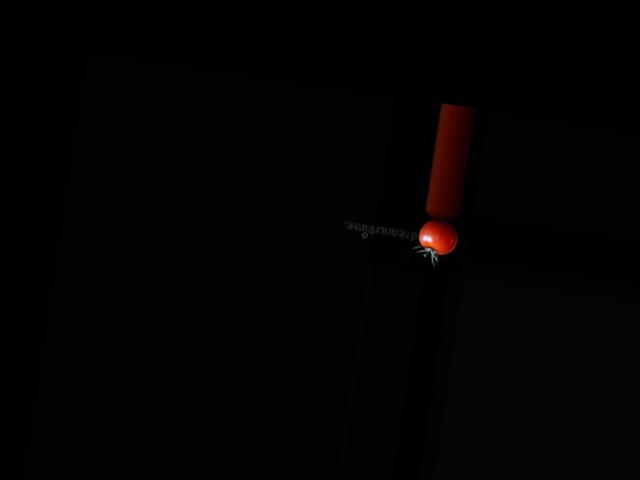tomato: (416, 217, 459, 256)
